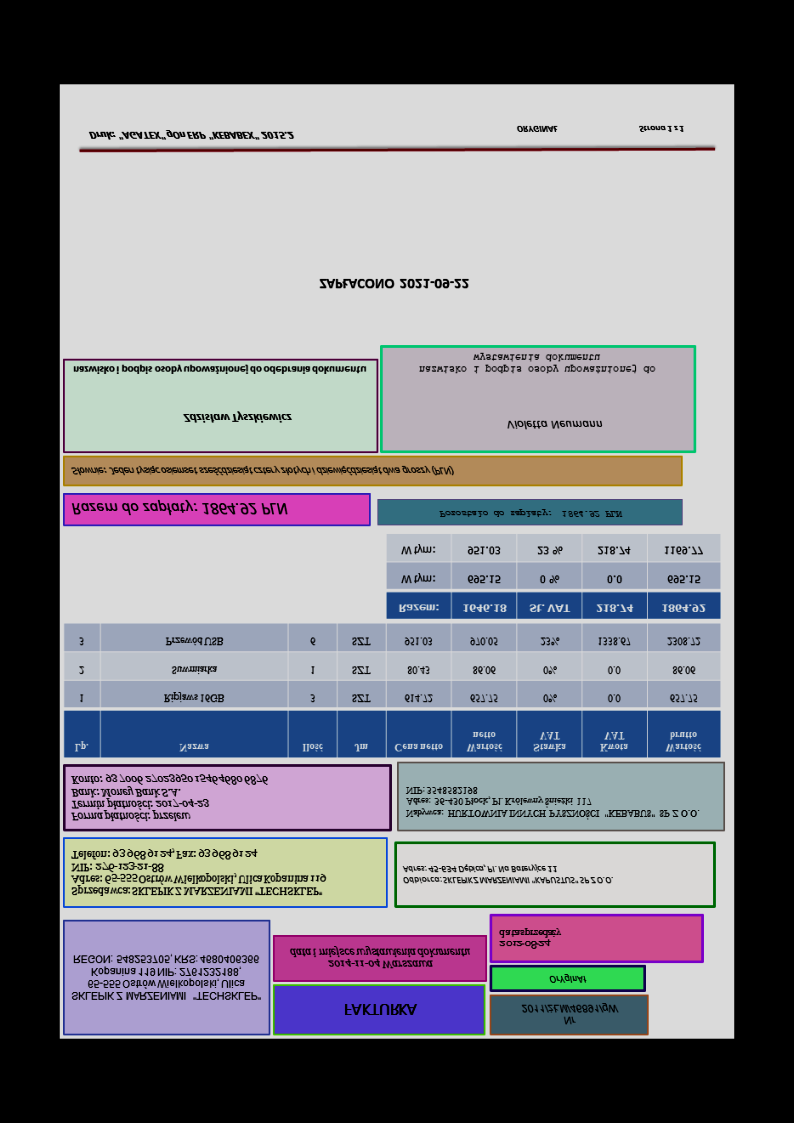Table: (61, 622, 721, 760), (384, 532, 721, 620)
TextBox: (68, 846, 329, 901), (402, 782, 700, 820), (68, 771, 271, 825), (68, 951, 262, 1004), (416, 351, 660, 377), (68, 463, 456, 479), (400, 863, 613, 889), (67, 496, 289, 519), (287, 944, 473, 971), (69, 363, 369, 378), (85, 127, 298, 145), (518, 1000, 621, 1029), (316, 275, 473, 292), (512, 122, 688, 137), (434, 508, 624, 521), (181, 410, 293, 428), (495, 924, 563, 952), (503, 417, 603, 434), (342, 1000, 420, 1018), (547, 972, 589, 986)
